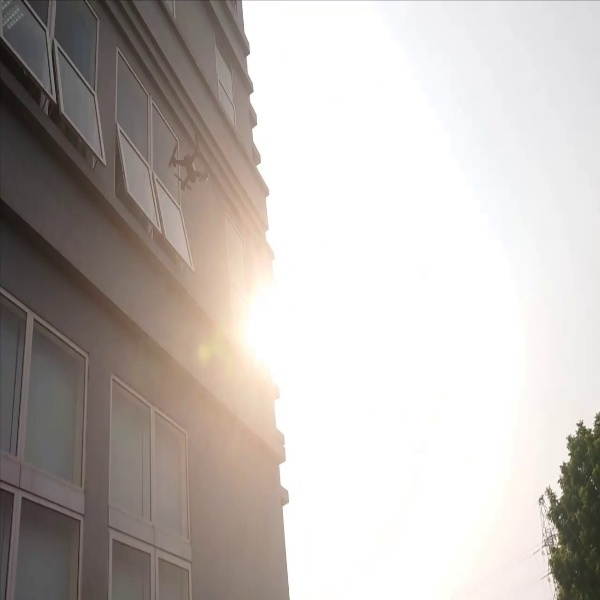drone: (158, 128, 223, 194)
